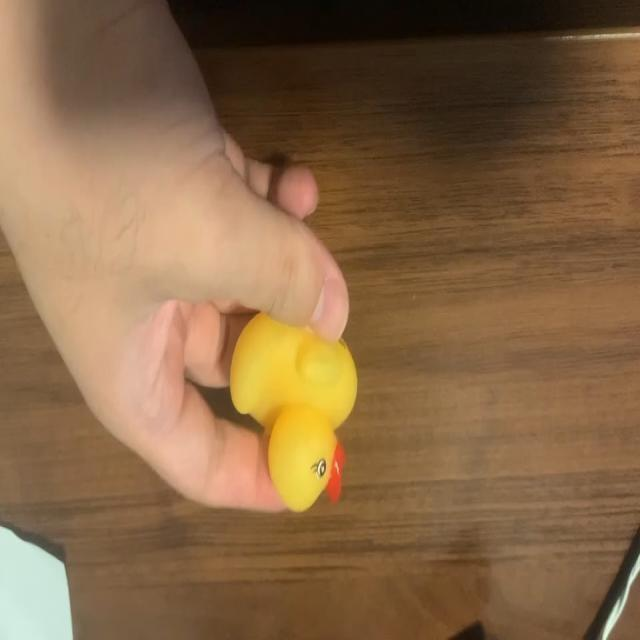rubber-duck: (229, 312, 355, 510)
